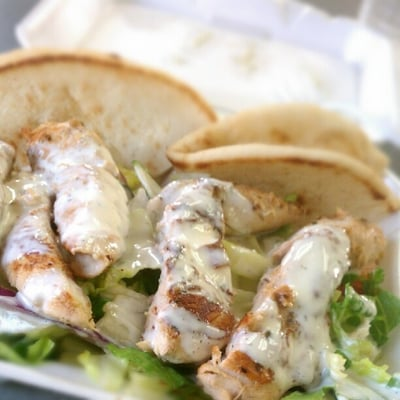soup: (0, 46, 221, 183)
